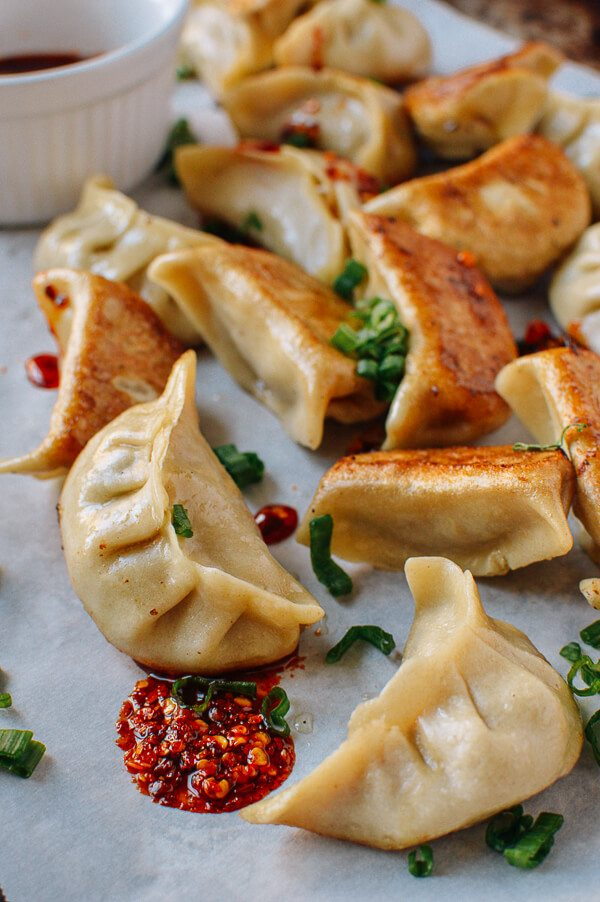fried_dumplings: (111, 403, 269, 665), (344, 589, 536, 790), (177, 247, 368, 413), (361, 448, 558, 566), (384, 238, 497, 434), (414, 146, 565, 272), (204, 147, 337, 275), (46, 290, 143, 462), (69, 202, 198, 304), (241, 63, 395, 143), (424, 45, 548, 139), (539, 362, 600, 537), (299, 8, 423, 88), (495, 85, 597, 182), (182, 18, 273, 95), (556, 235, 600, 324)
